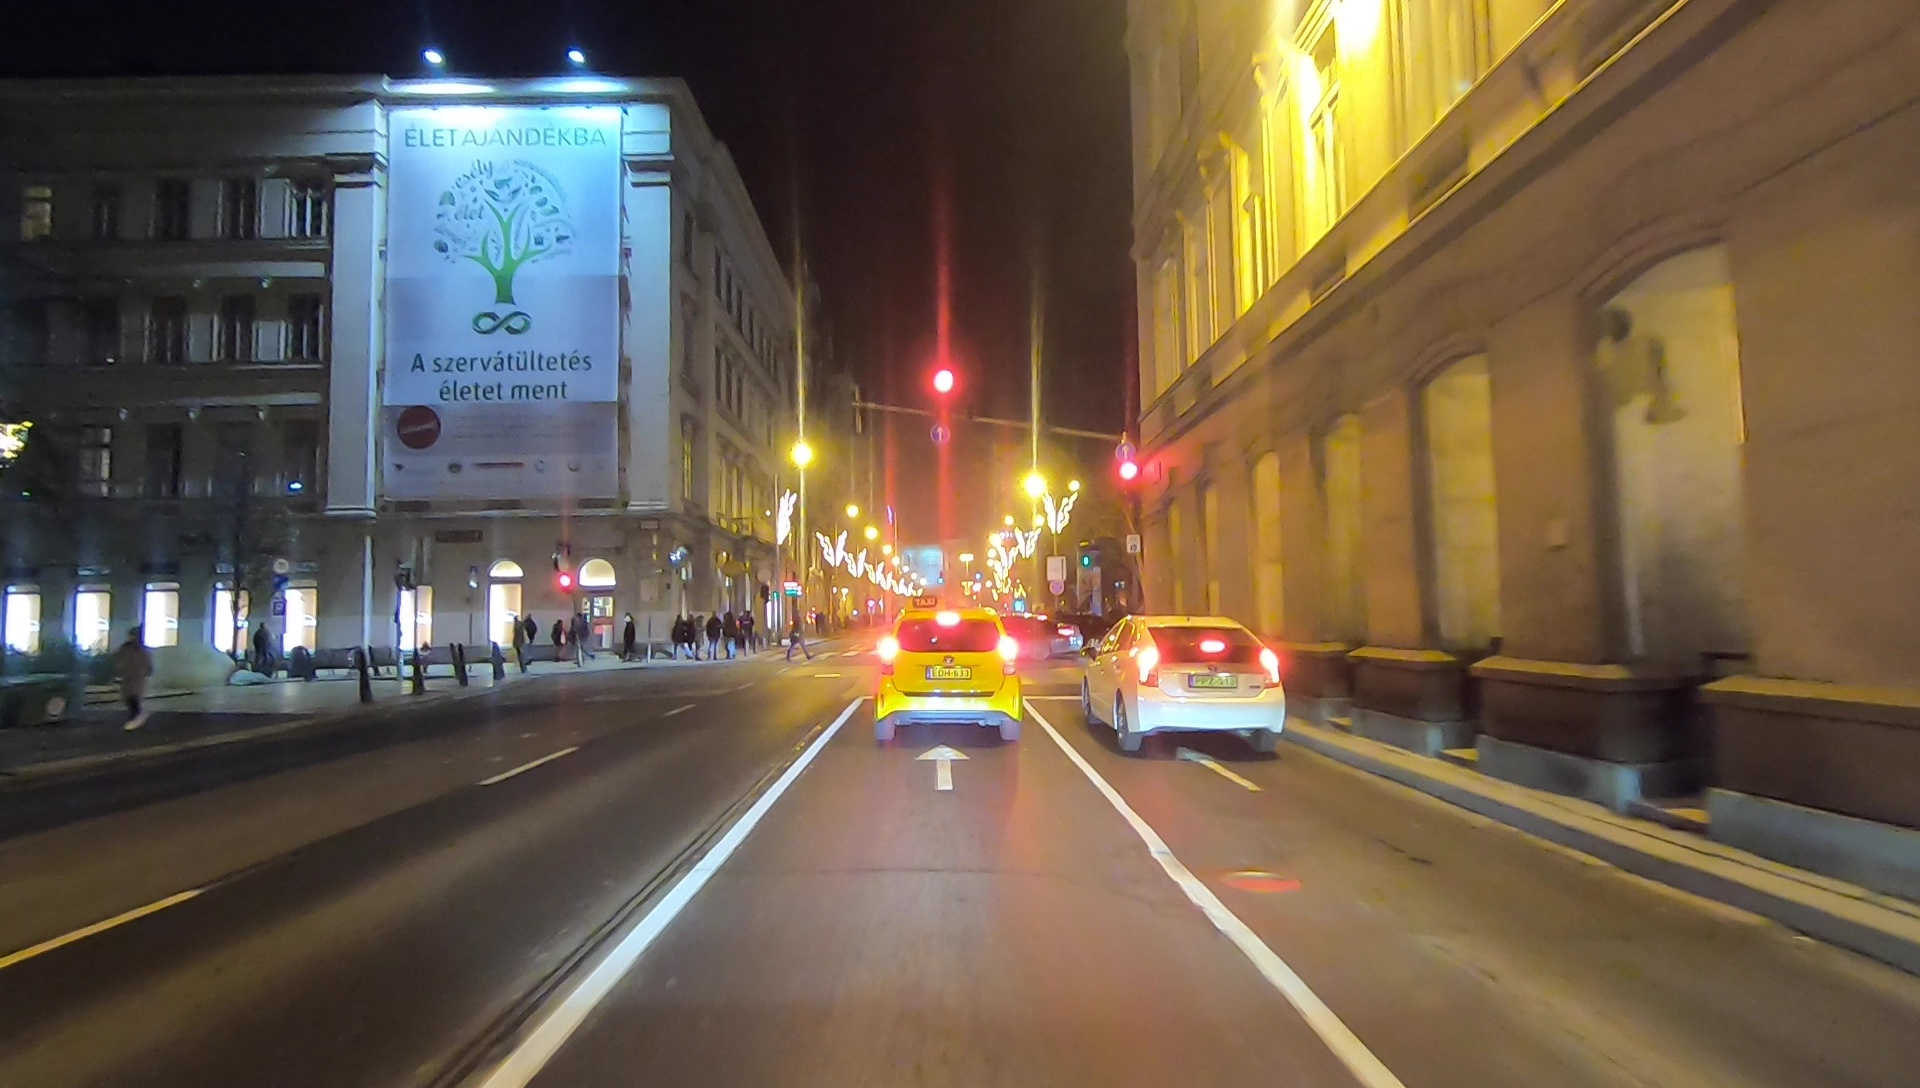person: (110, 624, 154, 734), (784, 613, 810, 665), (252, 623, 276, 674), (704, 610, 725, 661), (617, 617, 639, 663), (514, 615, 538, 658), (736, 608, 754, 661), (684, 610, 702, 661), (671, 610, 688, 660), (723, 606, 739, 660)
